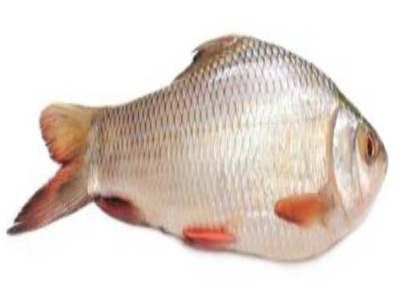rohu: (8, 26, 392, 265)
